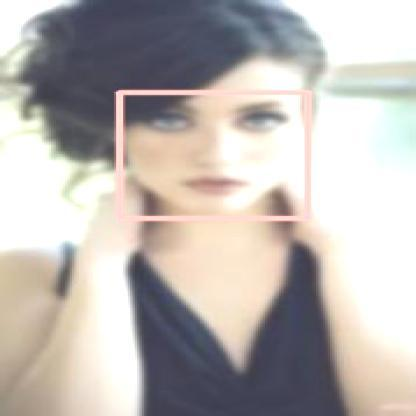without_mask: (119, 92, 307, 218)
